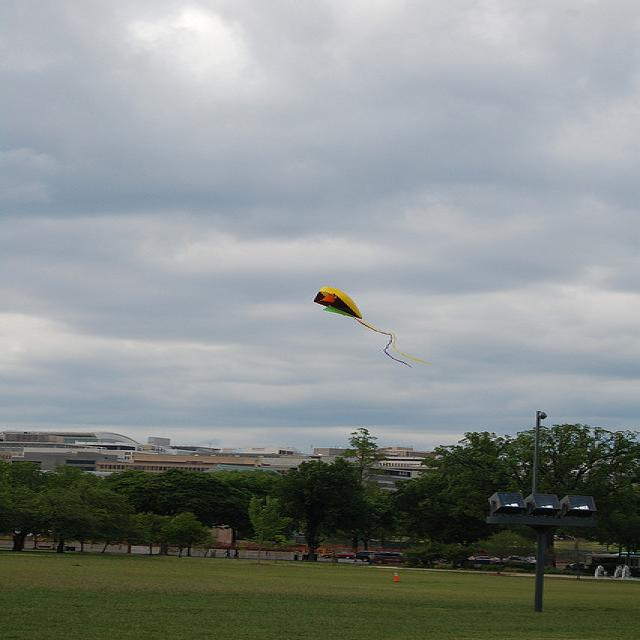Vehicle: (373, 552, 409, 564), (502, 555, 537, 567), (322, 550, 358, 559), (356, 551, 378, 562), (474, 556, 500, 564), (475, 560, 492, 568)
